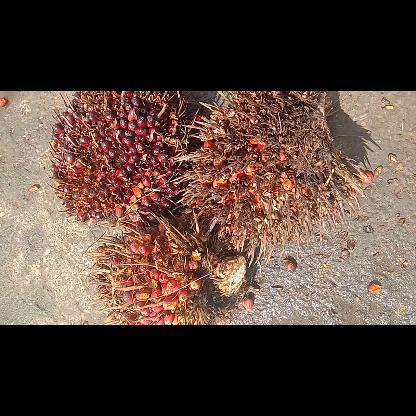TBS masak: (46, 91, 198, 230), (85, 210, 245, 324)
Terlalu masak: (171, 90, 368, 266)
